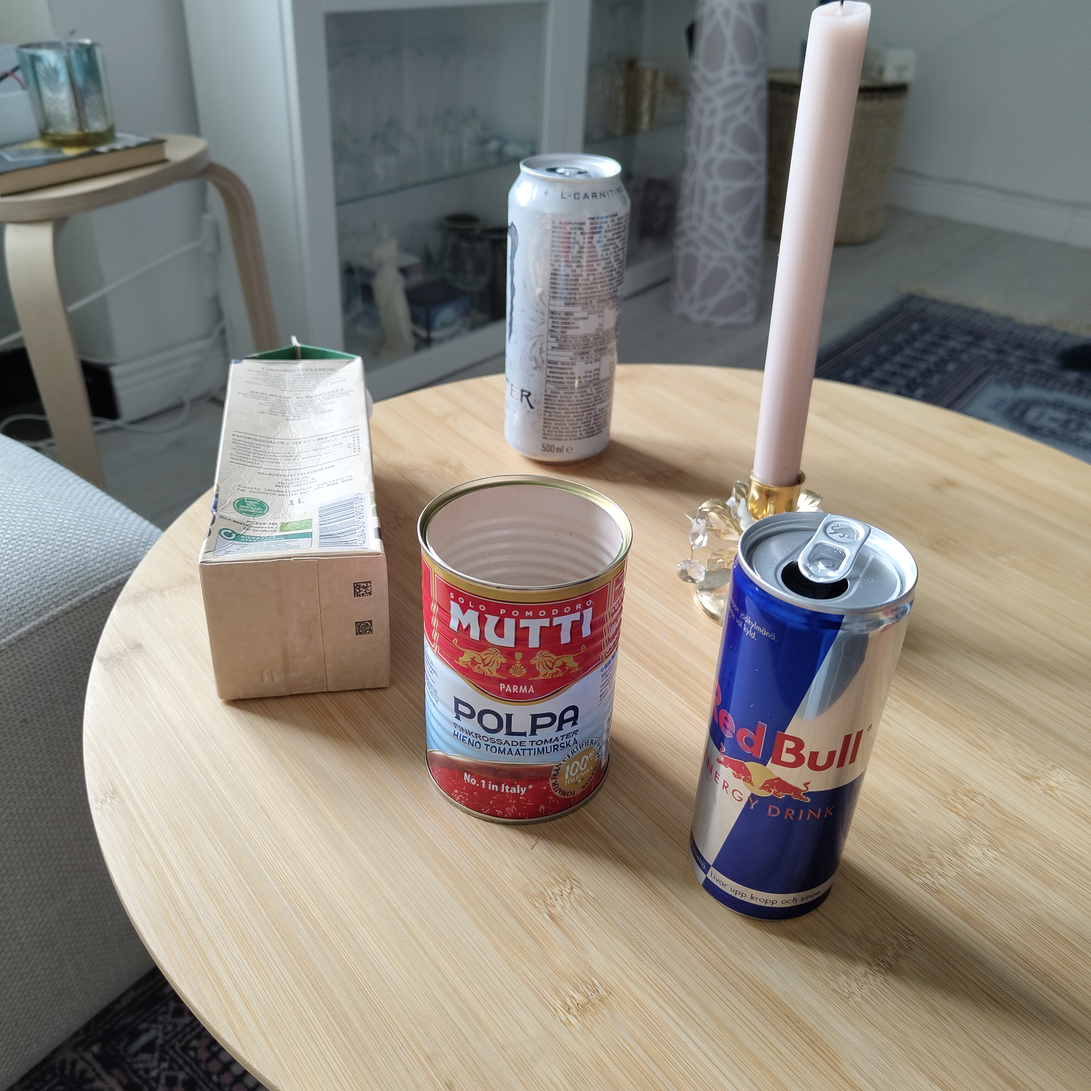Dryckeskartong: (199, 333, 393, 701)
Konservburk: (417, 474, 633, 825)
Pantburk: (688, 511, 918, 923), (503, 152, 630, 464)
